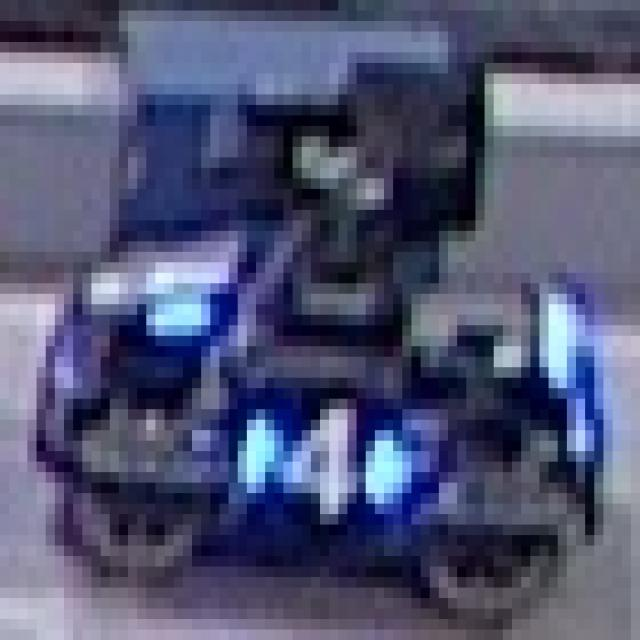B4: (228, 388, 412, 514)
